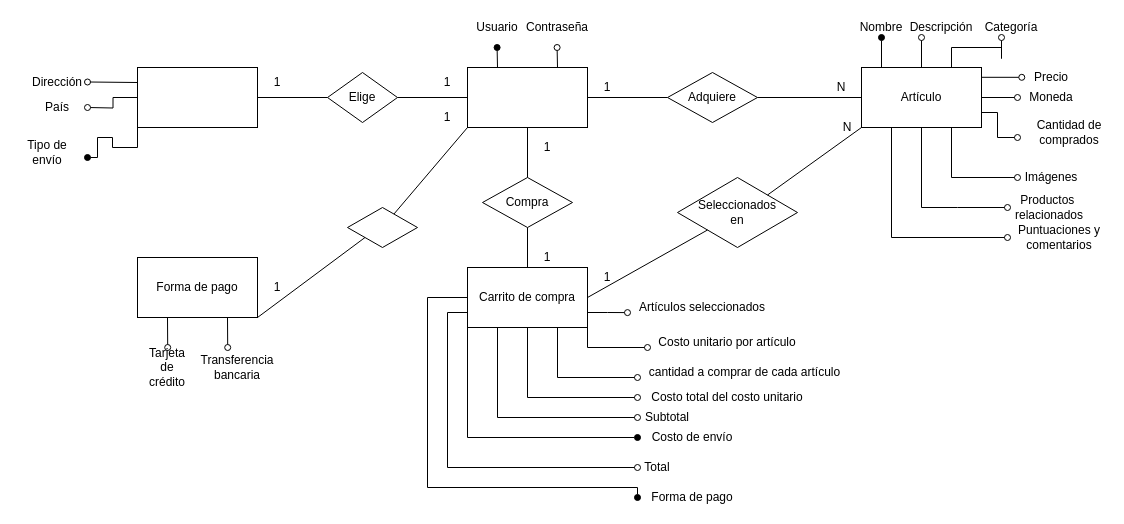
Some shapes in this 1124 by 524 pixel diagram are drawn without their labels. The box of each missing label's shape, as (x1, y1, x2, y2) in pixels:
Comprador: (466, 66, 588, 128)
Método de envío: (136, 66, 258, 128)
Paga: (346, 206, 418, 248)
